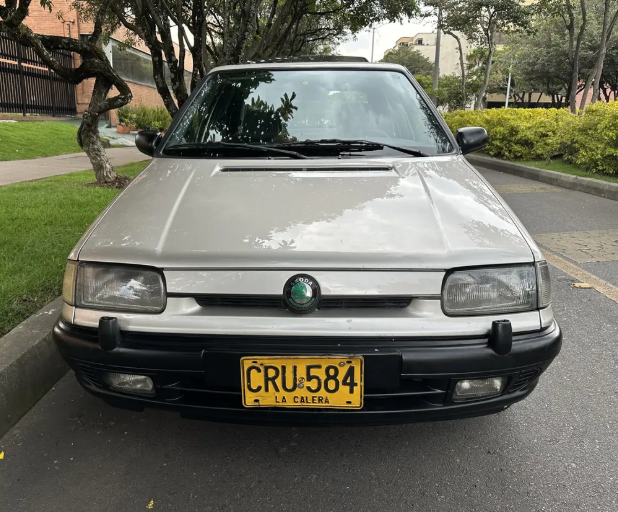placa: (238, 356, 368, 409)
